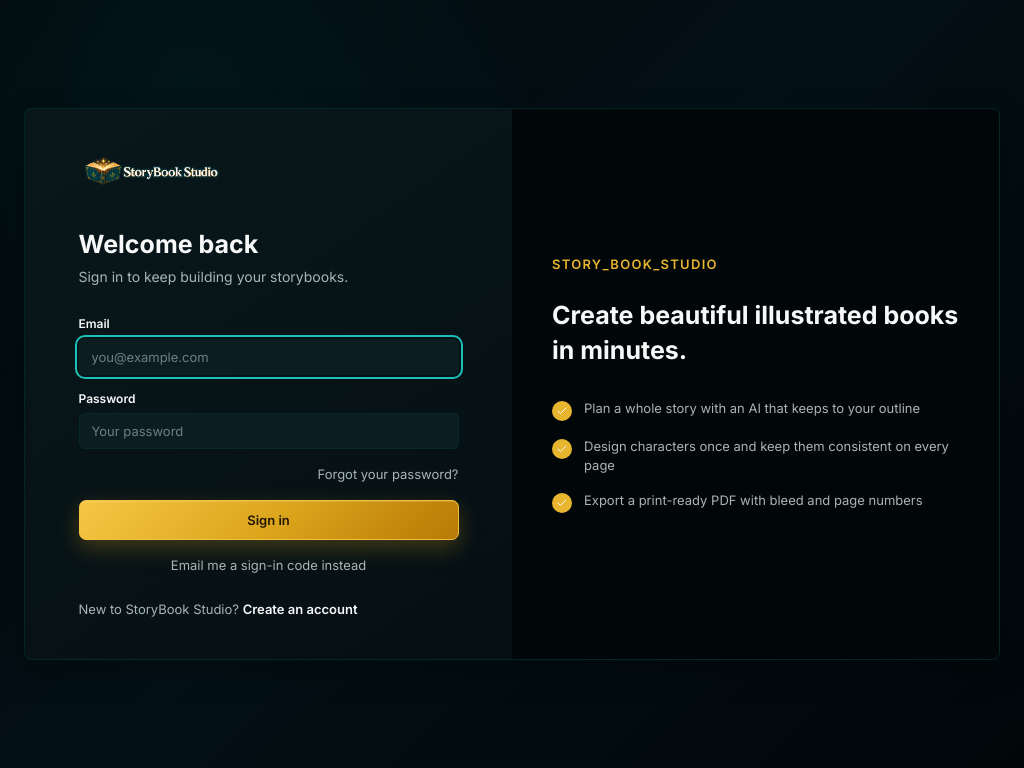
Test case: signing in with an emailed code › goes back to the password form, and to a different address
Click the button "Email me a sign-in code instead": {"x": 268, "y": 566} left=78, top=556, right=458, bottom=575
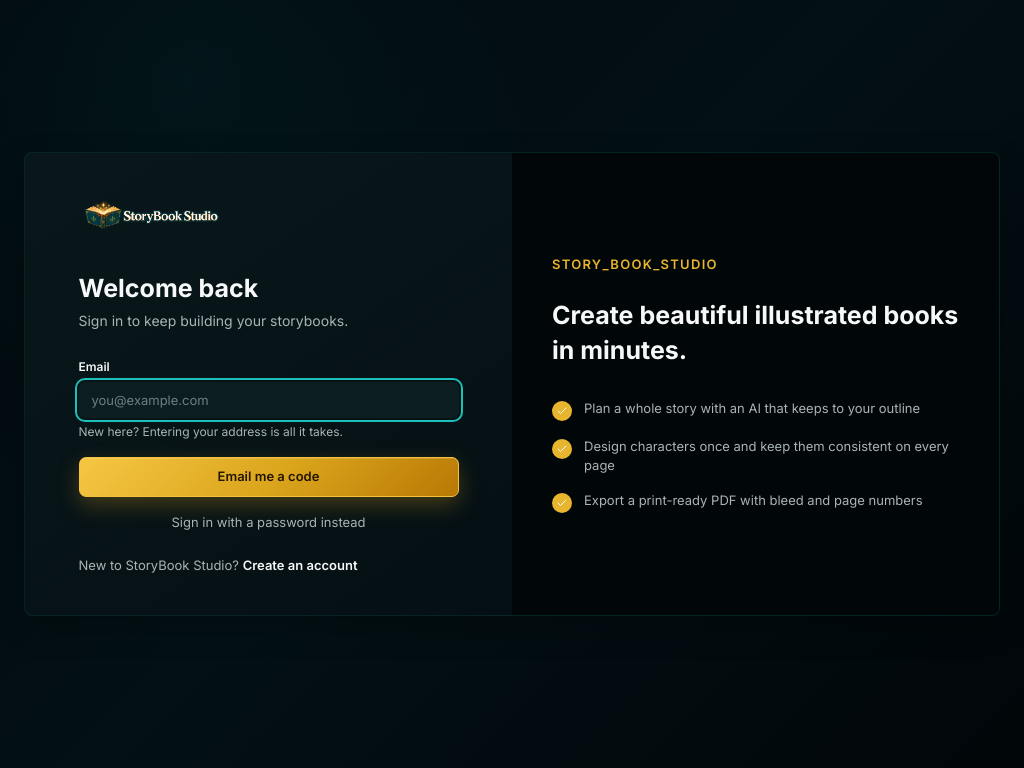
In the field labelled "Email": {"x": 268, "y": 400} left=78, top=382, right=458, bottom=418, type "typo@example.com"
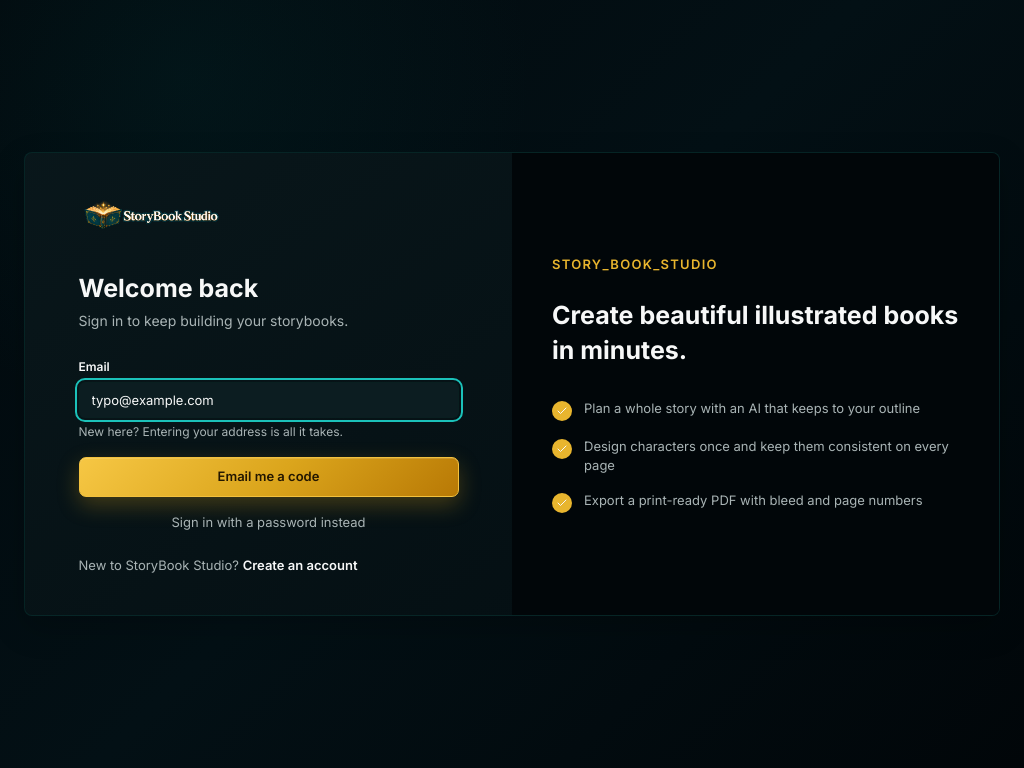
Click the button "Email me a code": {"x": 268, "y": 477} left=78, top=457, right=458, bottom=497
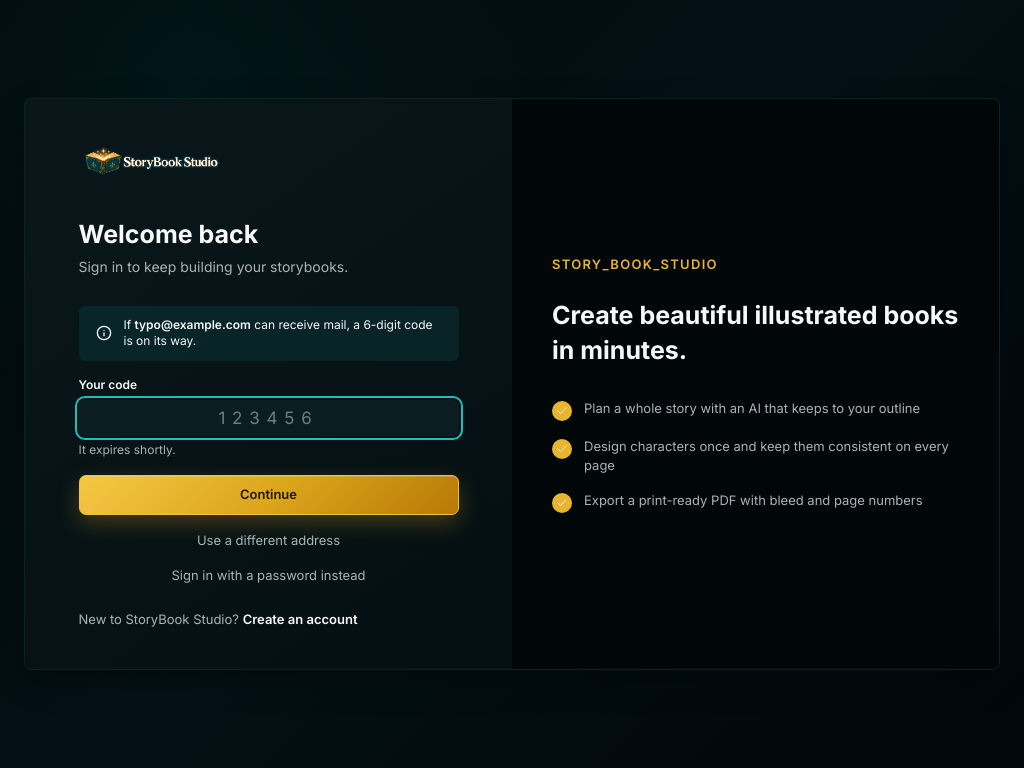
Click the button "Use a different address": {"x": 268, "y": 540} left=78, top=531, right=458, bottom=550
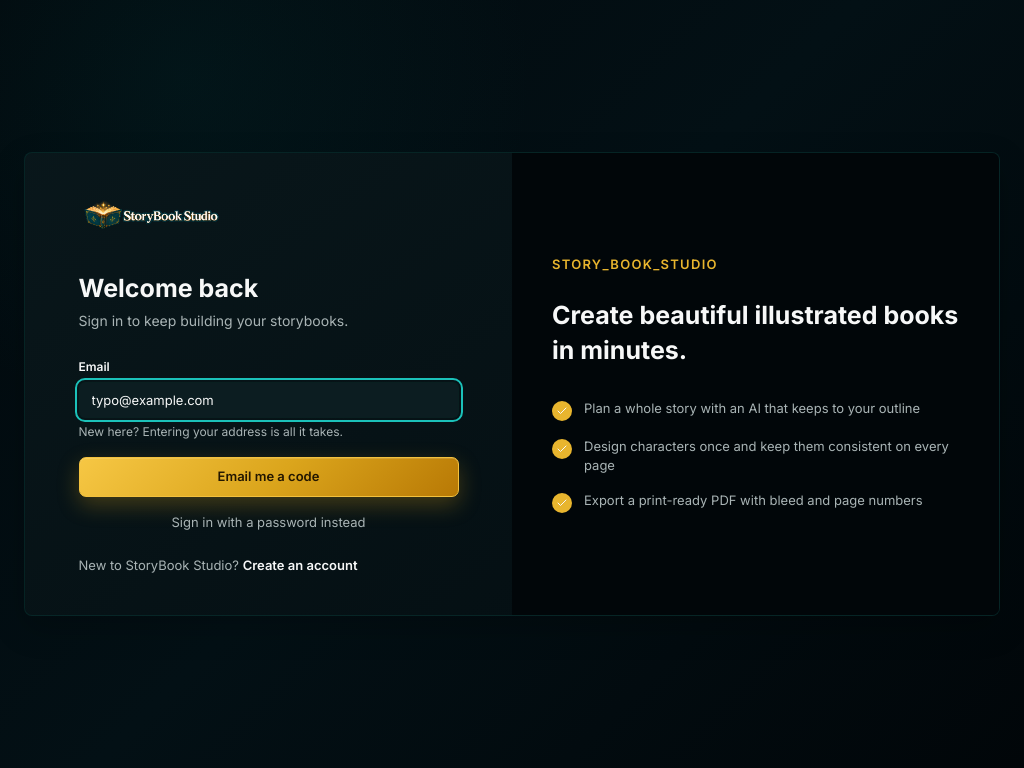
Now the field labelled "Email" holds "typo@example.com", box left=78, top=382, right=458, bottom=418
Click the button "Sign in with a password instead": {"x": 268, "y": 522} left=78, top=513, right=458, bottom=532
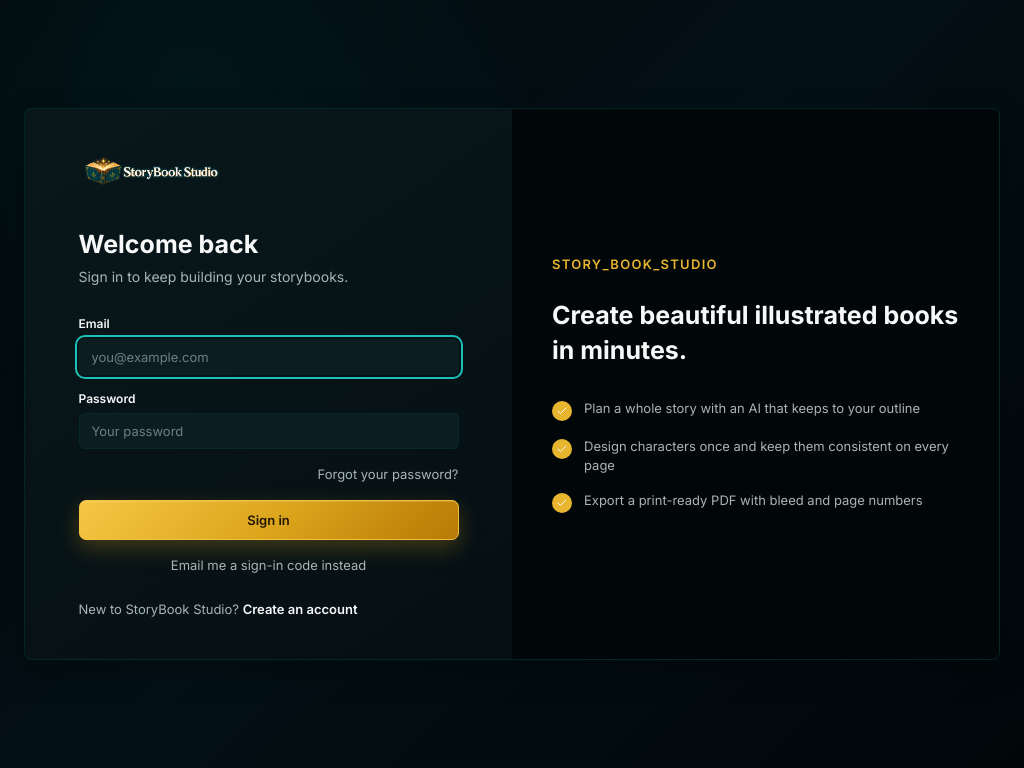
Now the password field labelled "Password" is shown, box left=78, top=413, right=458, bottom=449
